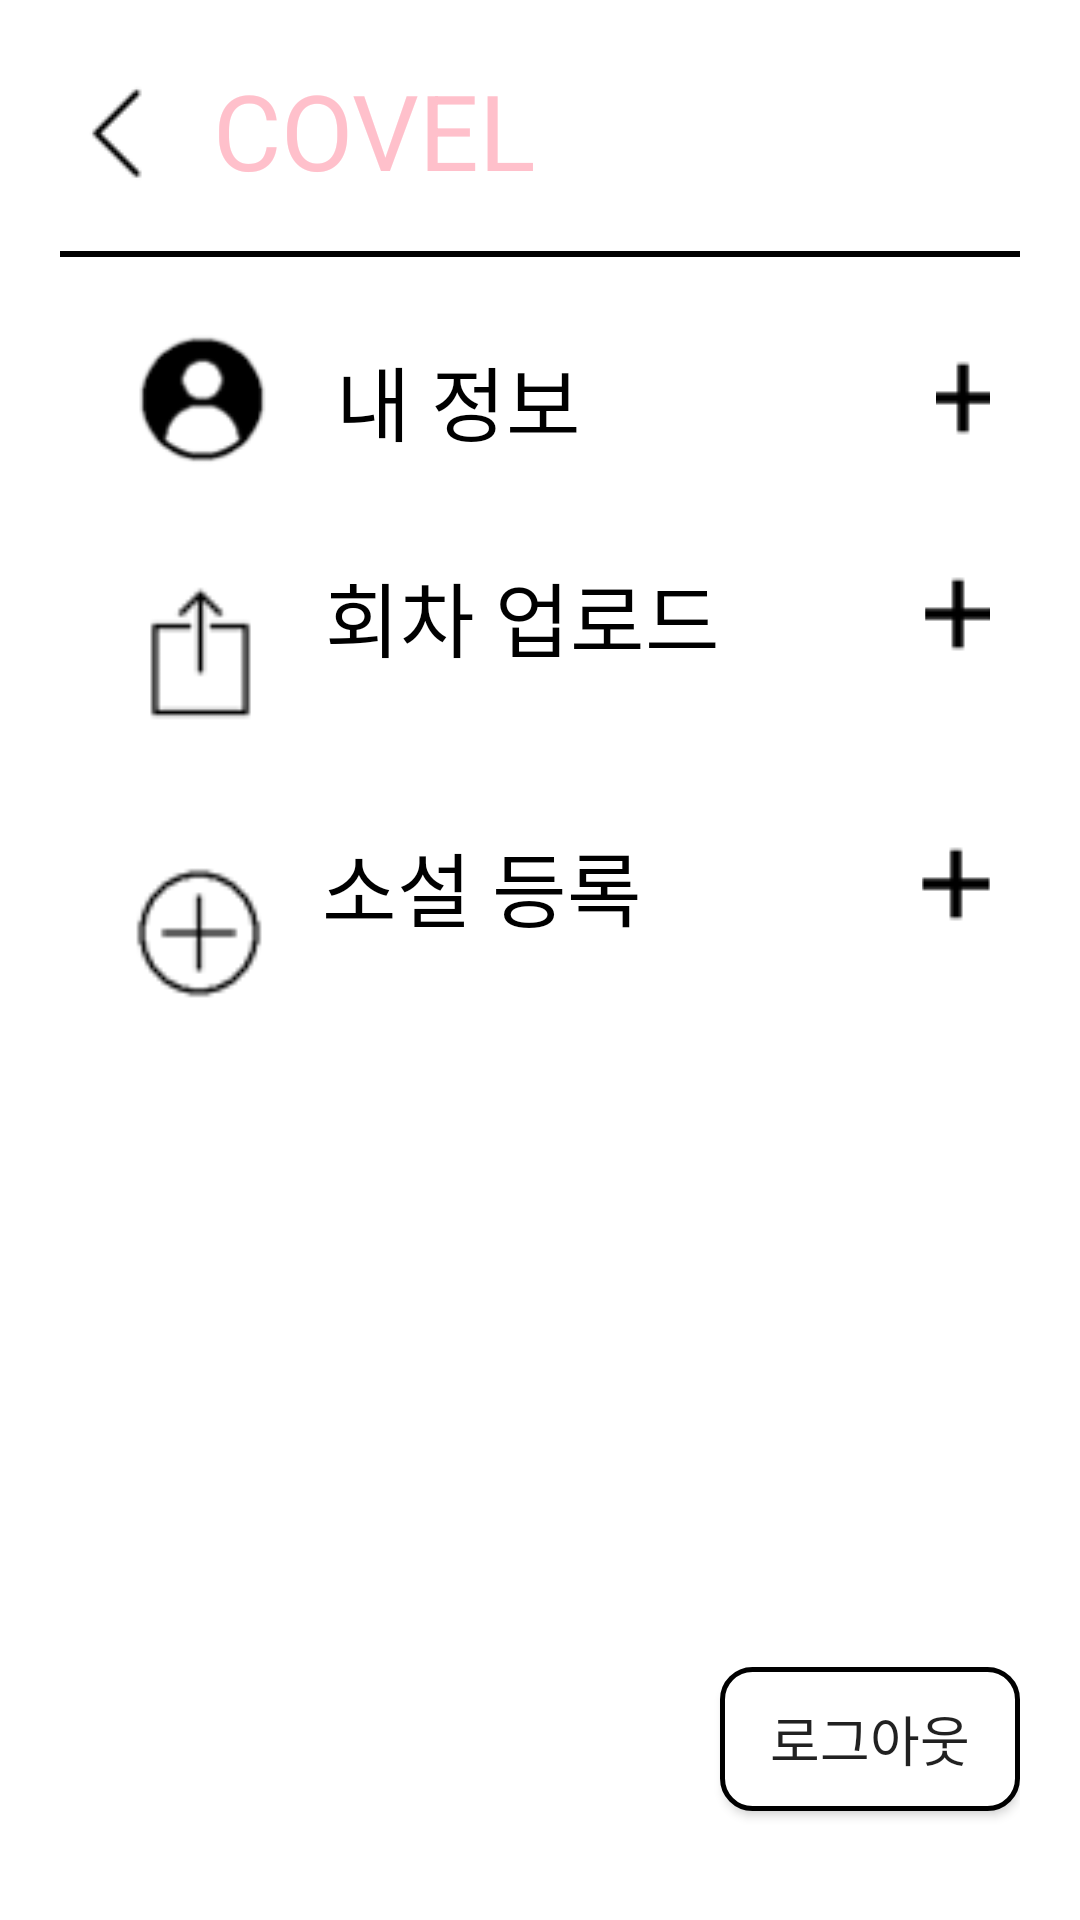

Named icons in this screenshot (1080 x 1920) and their centers, point (x, y):
backbutton: point (117, 133)
plus: point (963, 398), point (957, 614), point (956, 884), point (199, 933)
upload: point (200, 653)
